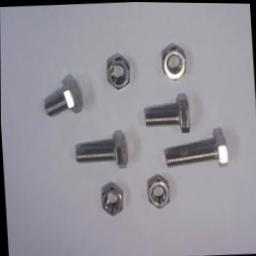Non-corroded Nut: (105, 52, 129, 89), (161, 44, 186, 79), (147, 173, 169, 207), (100, 181, 122, 214)
Non-corroded-Bolts: (163, 126, 228, 166), (74, 128, 127, 168), (142, 91, 189, 132), (43, 77, 82, 116)
